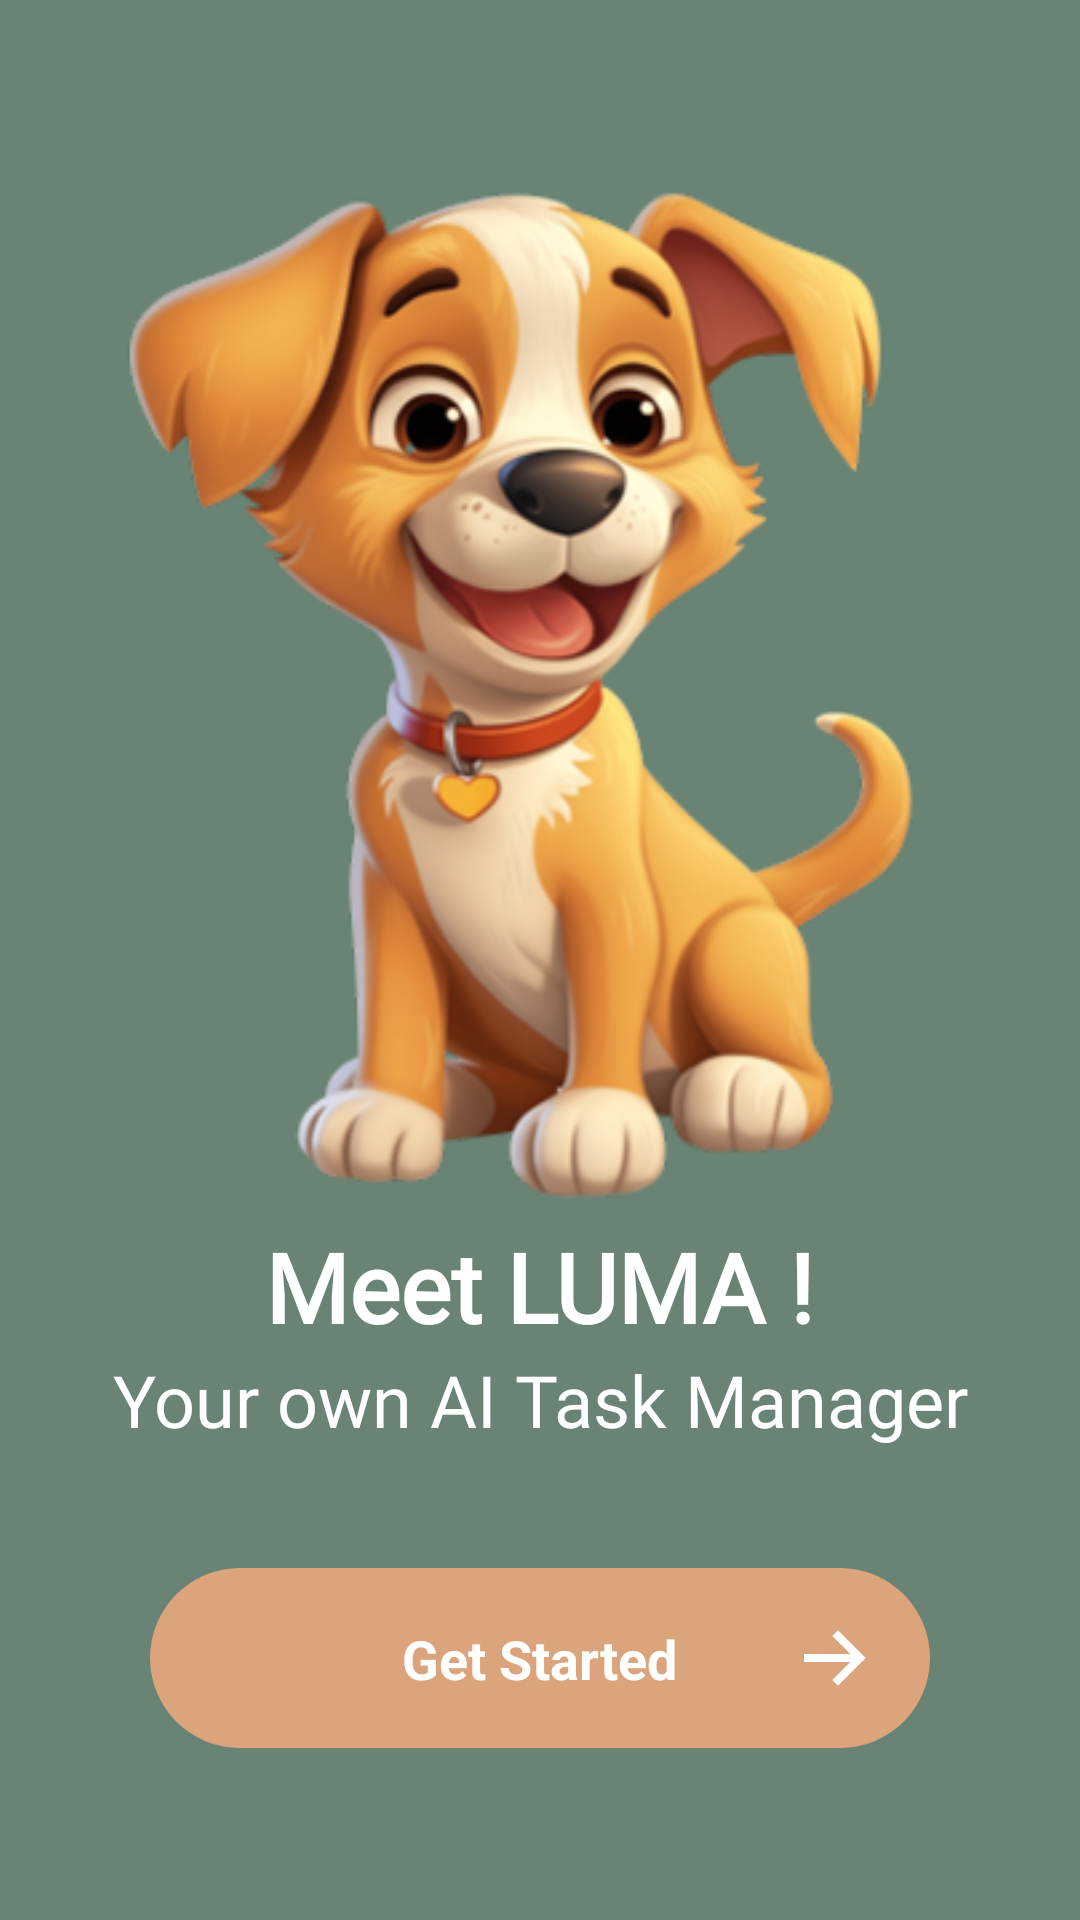

Icons on this 1080*1920 Android screen, each with the point to tap as point (x, y):
arrow right: point (835, 1658)
